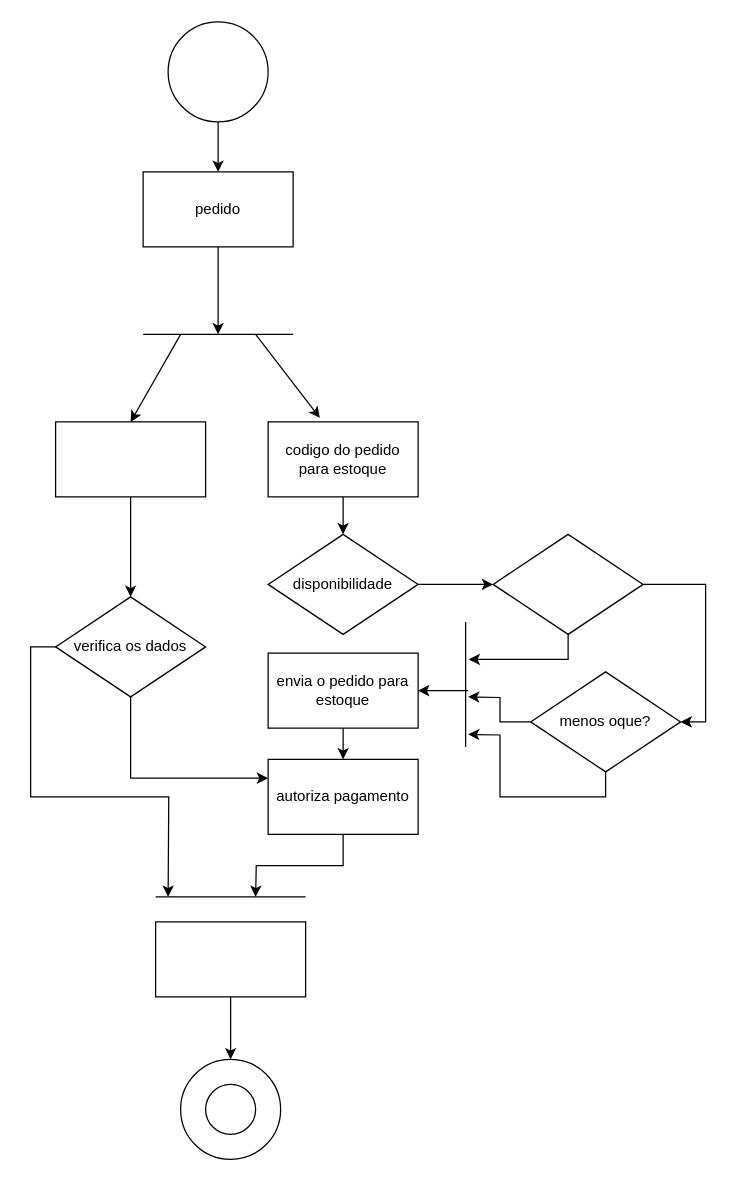
This 738x1181 diagram has some shape labels left out. Each missing label, with the centre of its shape:
"cancela pedido" goes at (230,959).
"mais oque?" goes at (567,583).
"valida dados do pagamento" goes at (130,459).
